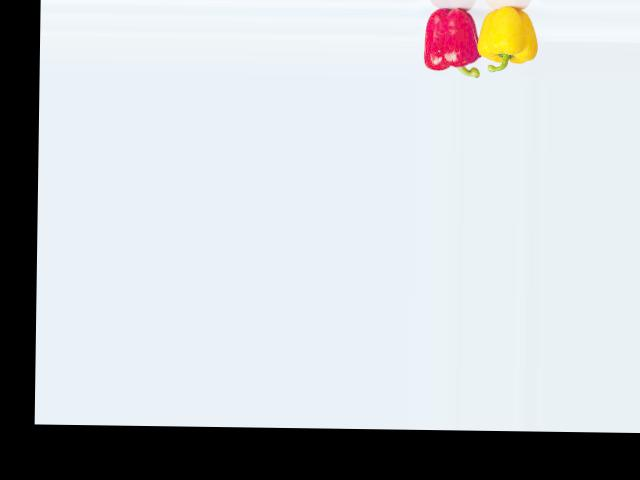bell_pepper: (418, 0, 482, 75)
